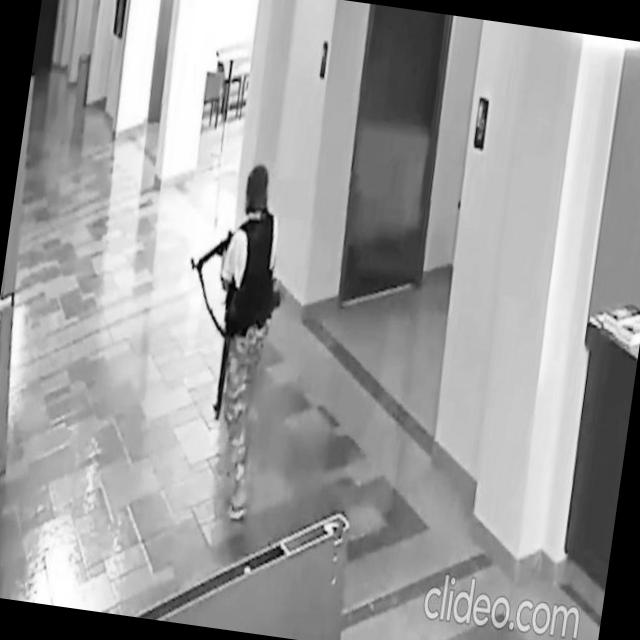gun: (188, 218, 242, 281)
person with a gun: (148, 158, 295, 534)
